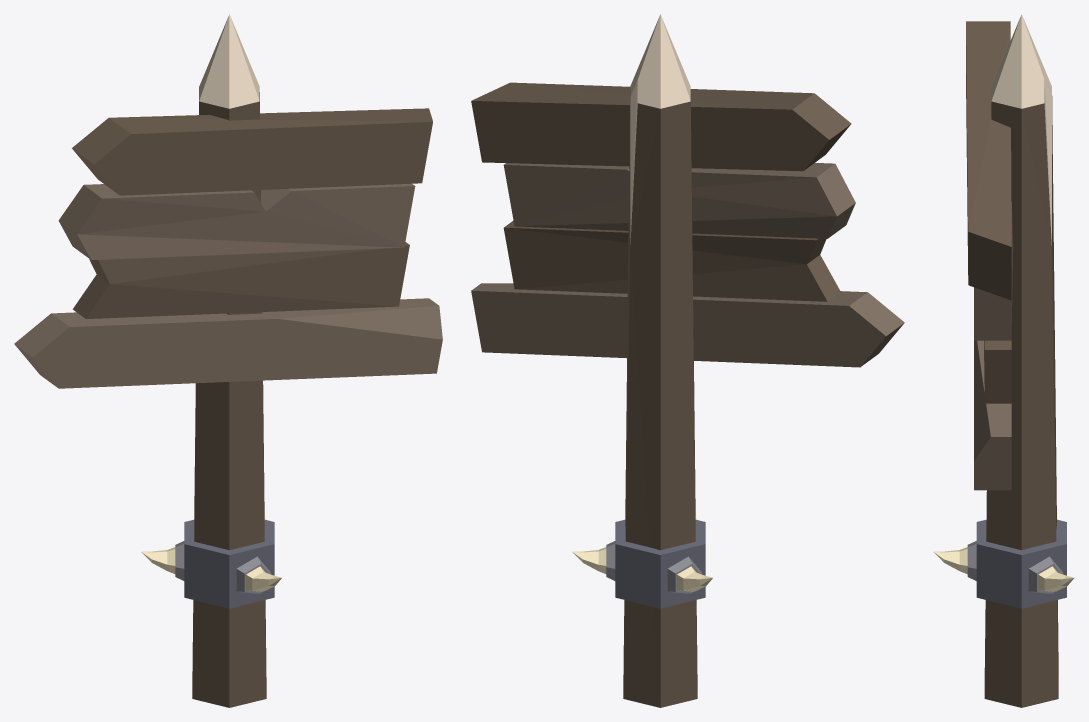
The model's file is _pointer.fbx.
The picture shows the model from 3 angles, left to right: view 1: azimuth 30°, elevation 25°; view 2: azimuth 150°, elevation 25°; view 3: azimuth 270°, elevation 25°; orthographic projection.
Visible parts, largest first — view 1: pointer; view 2: pointer; view 3: pointer.
Boxes of the visible parts, <box> form: pointer: <box>14,14,442,707</box>; pointer: <box>471,14,904,707</box>; pointer: <box>933,14,1074,707</box>.
Size of the model in its own units: 176 by 274 by 51.99.
